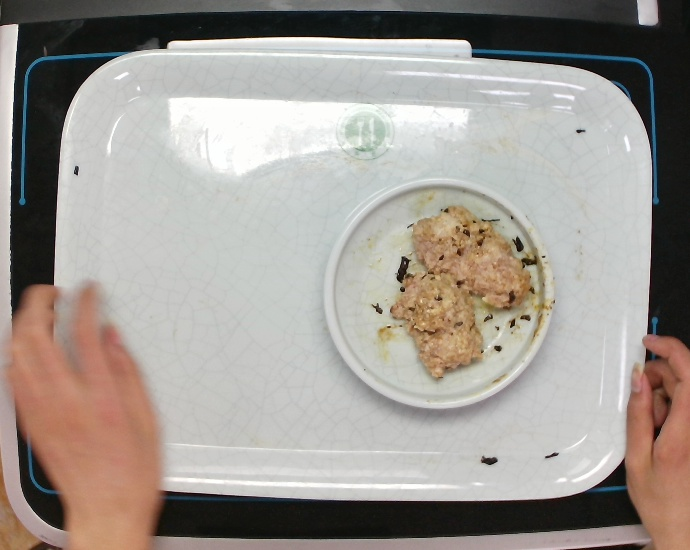JYsf-Xiao_Yuan_Pan: (321, 174, 556, 411)
